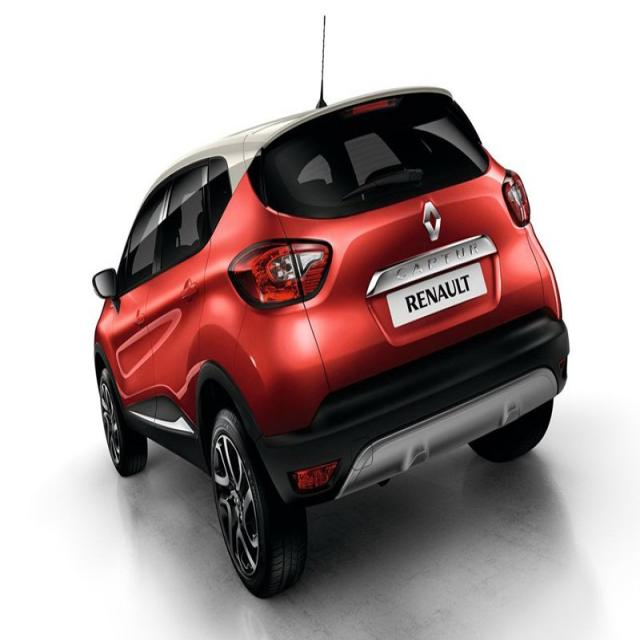back_glass: (248, 92, 492, 222)
back_left_side_light: (228, 236, 334, 311)
back_right_side_light: (501, 168, 532, 228)
front_left_side_door: (107, 167, 175, 428)
front_left_side_mirror: (92, 268, 121, 312)
rear_bumper: (247, 306, 570, 510)
wheel: (209, 402, 309, 600), (464, 397, 557, 462), (98, 366, 148, 478)
